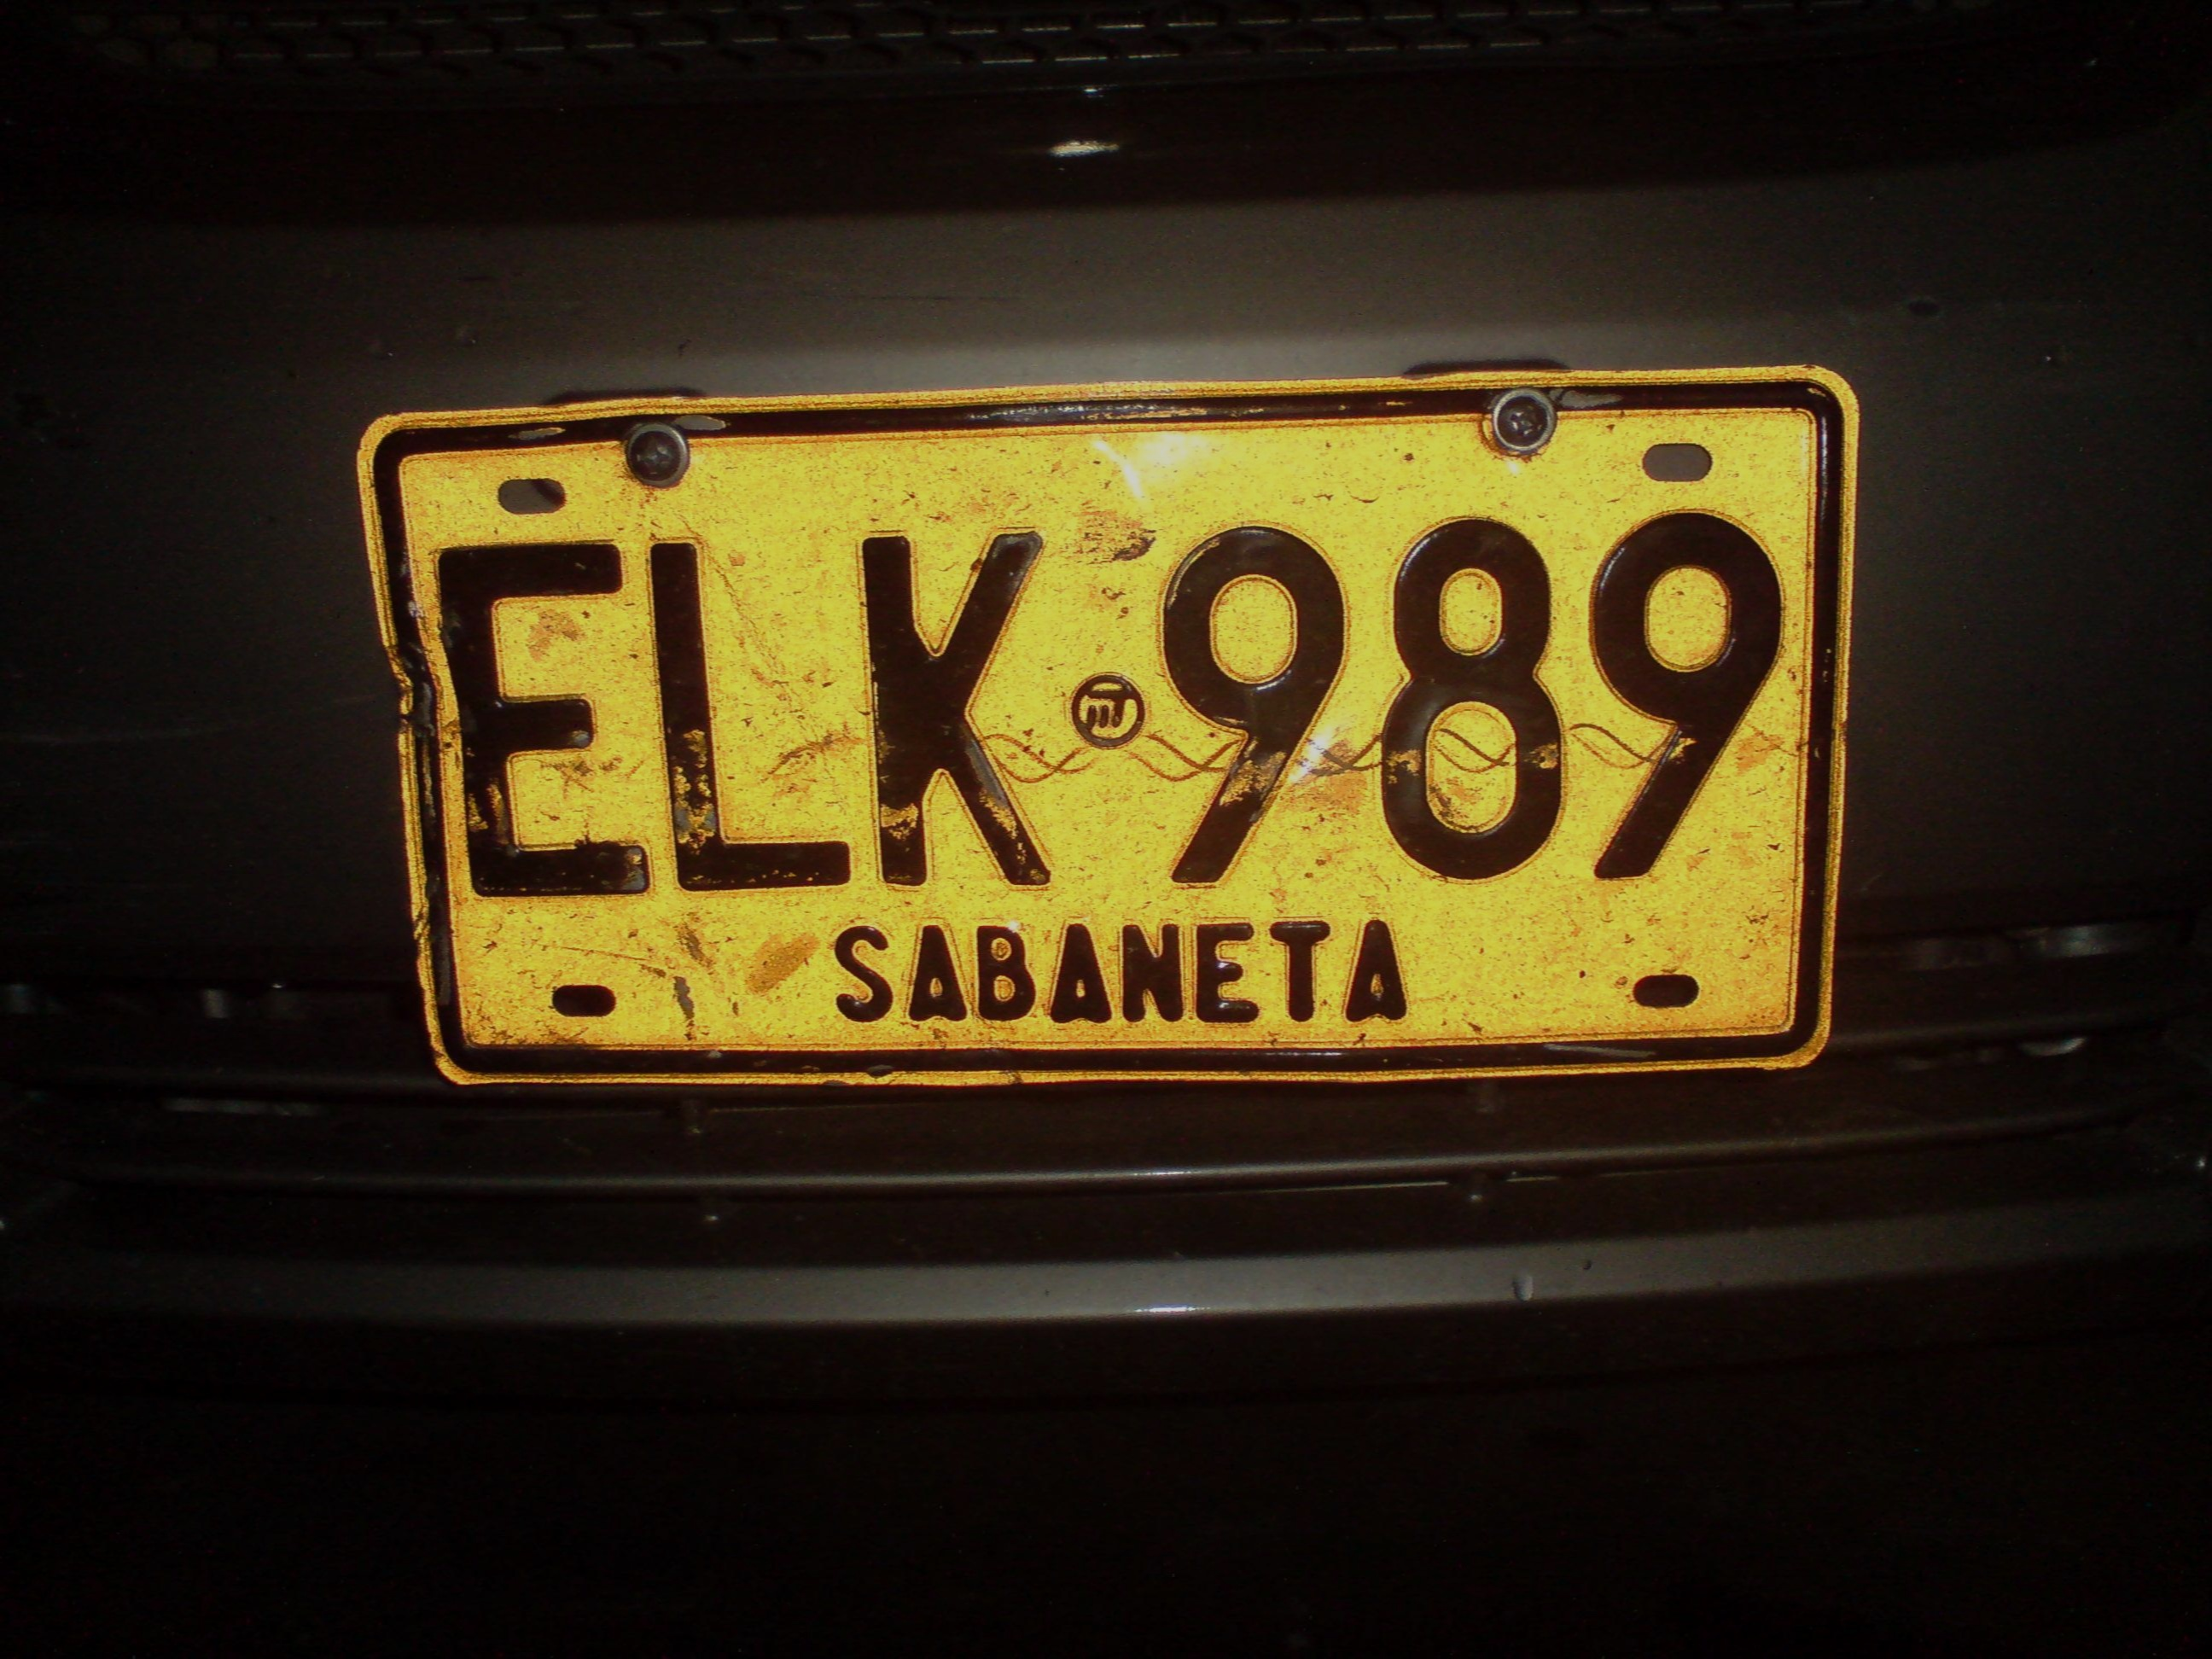placas: (346, 363, 1861, 1092)
